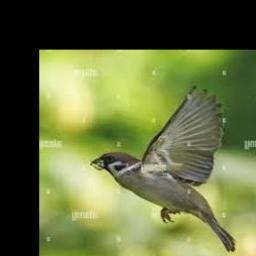Sparrow: (91, 86, 235, 251)
